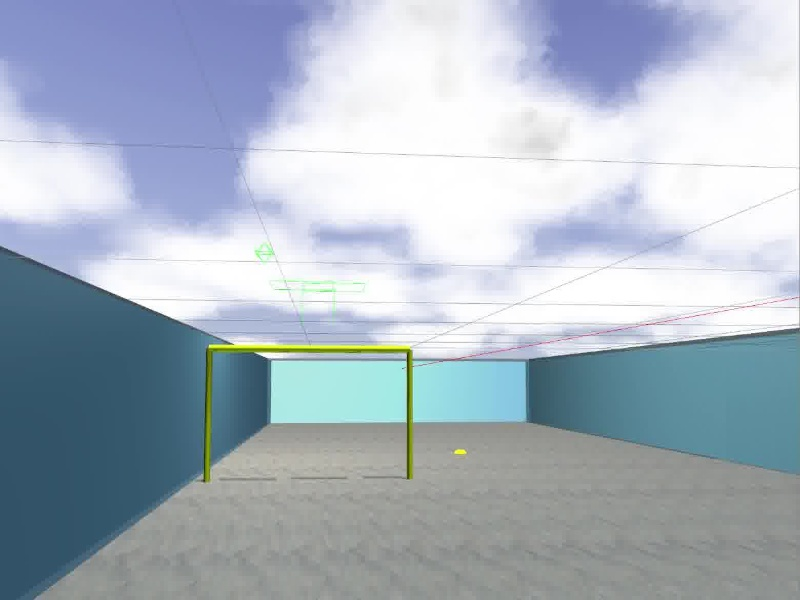gate: (201, 343, 415, 484)
